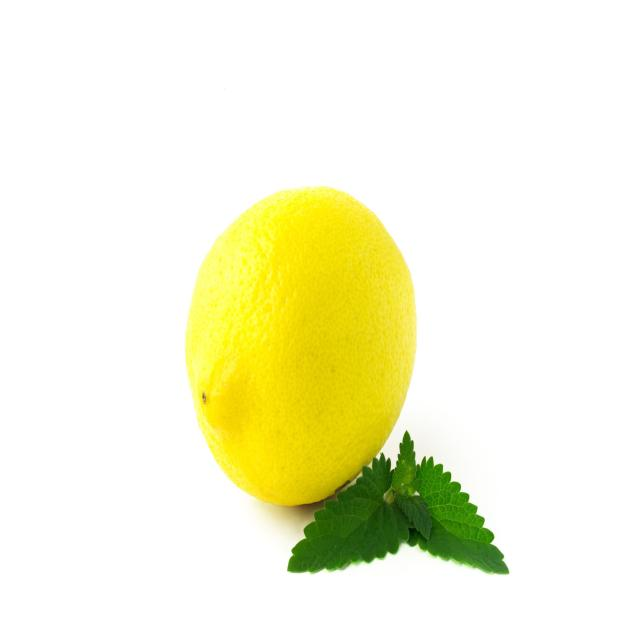lemon: (182, 179, 421, 513)
